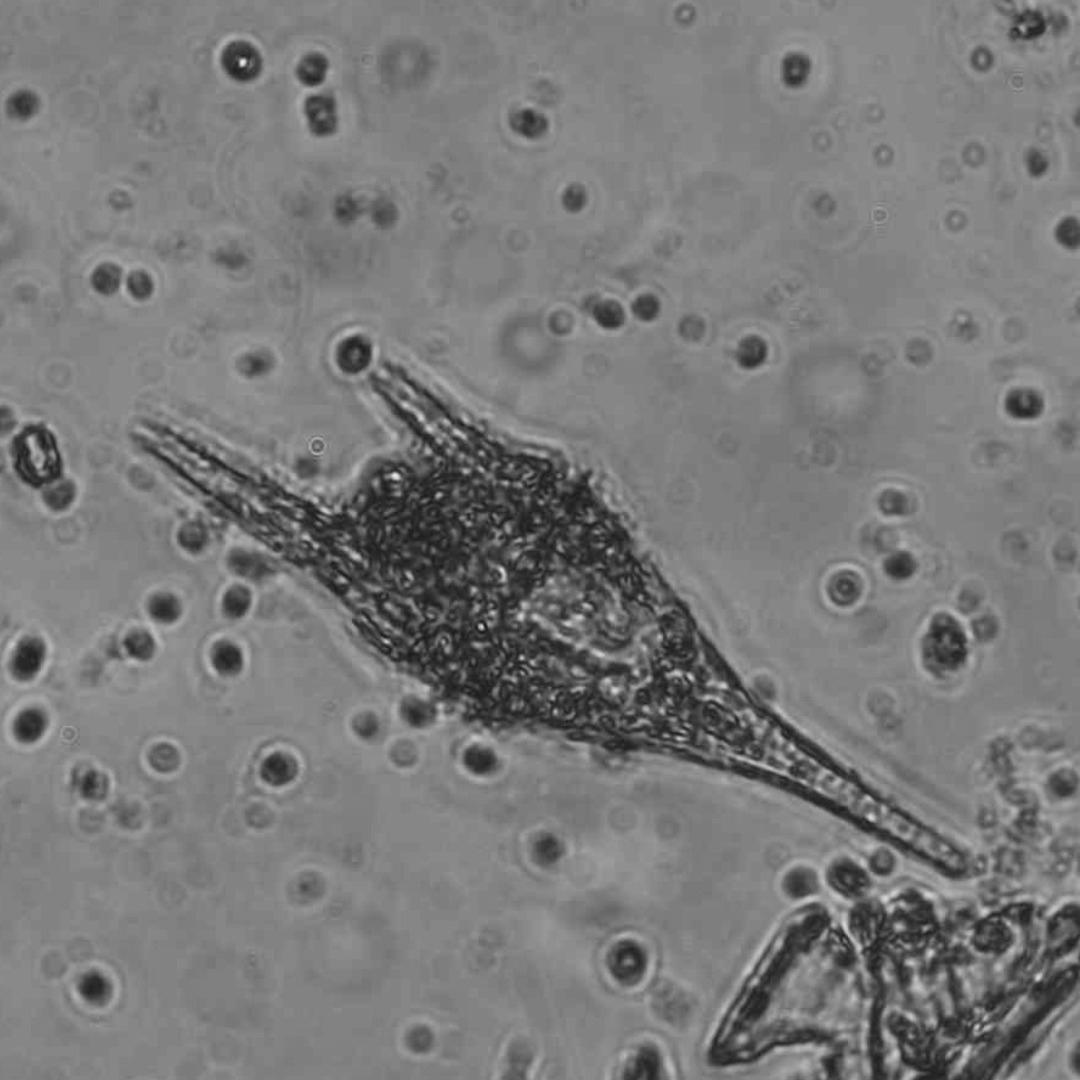ceratium_furca: (127, 357, 969, 876)
